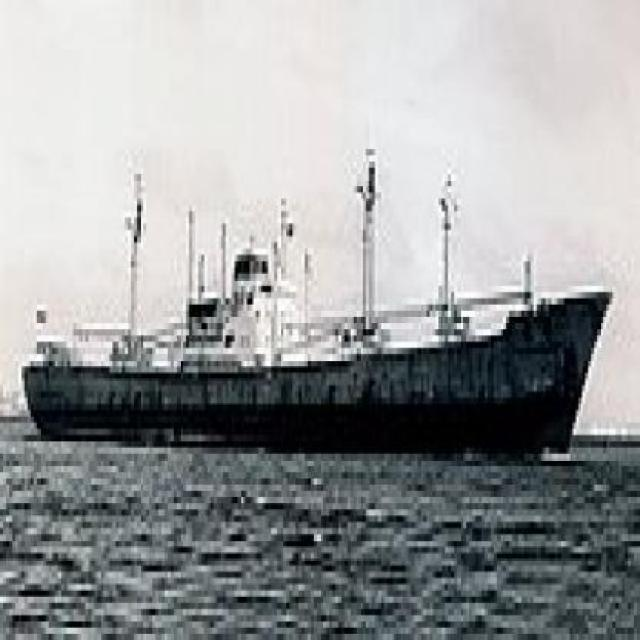container: (17, 100, 623, 474)
